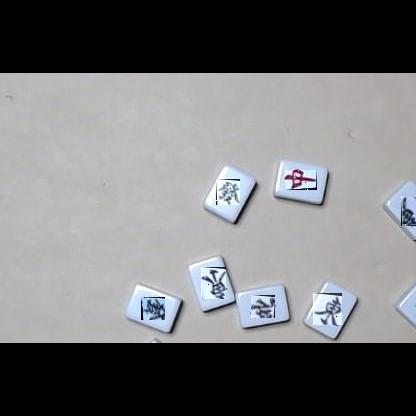1z: (313, 293, 342, 325), (201, 267, 226, 299), (401, 197, 416, 226)
4z: (251, 295, 275, 318)
6z: (216, 179, 240, 205), (141, 297, 165, 320)
7z: (285, 170, 317, 190)
